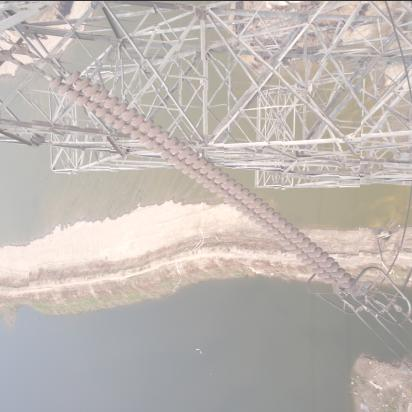insulator: (32, 59, 362, 292)
